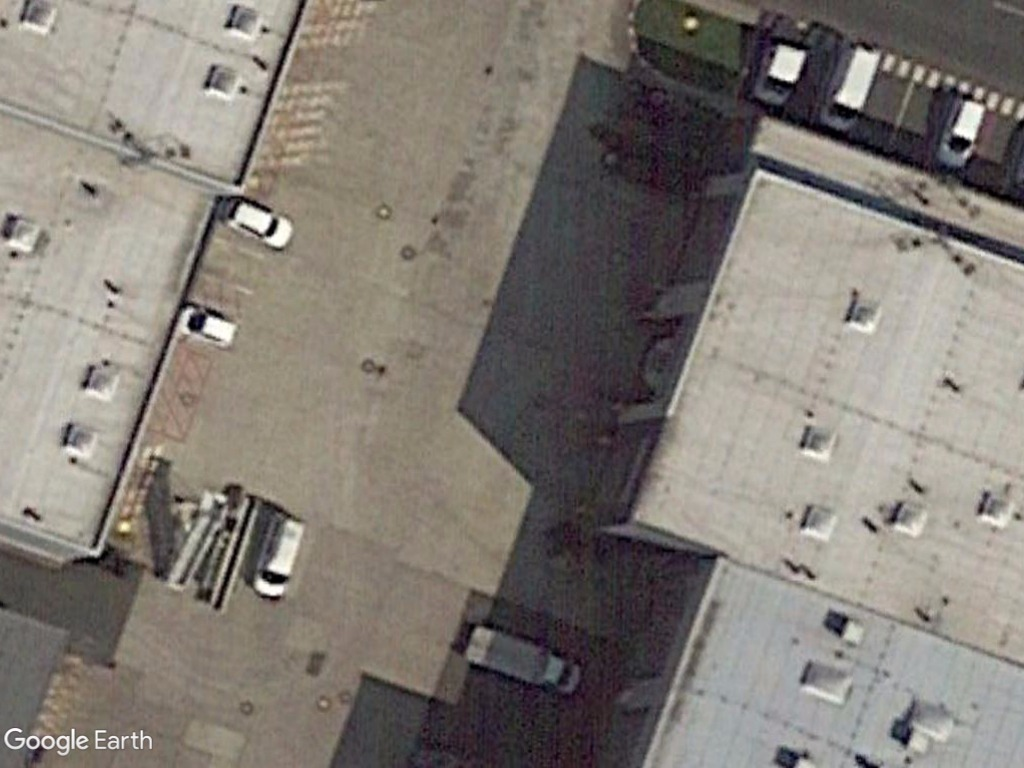car: (213, 186, 300, 256), (927, 91, 996, 172), (168, 295, 248, 352)
truck: (464, 619, 587, 698)
van: (245, 505, 308, 605), (820, 39, 886, 131)
